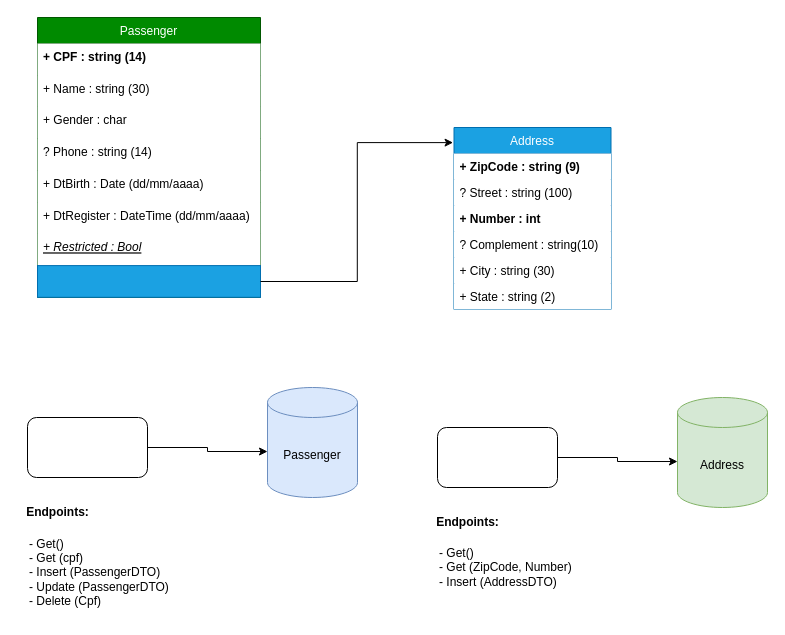
The diagram is 785 pixels wide and 635 high, and some of its shapes have lost their labels. Each missing label, with the centre of its shape:
"+ Address : Address" goes at [148,281].
"AddressAPI" goes at [497,457].
"PassengerAPI" goes at [87,447].
